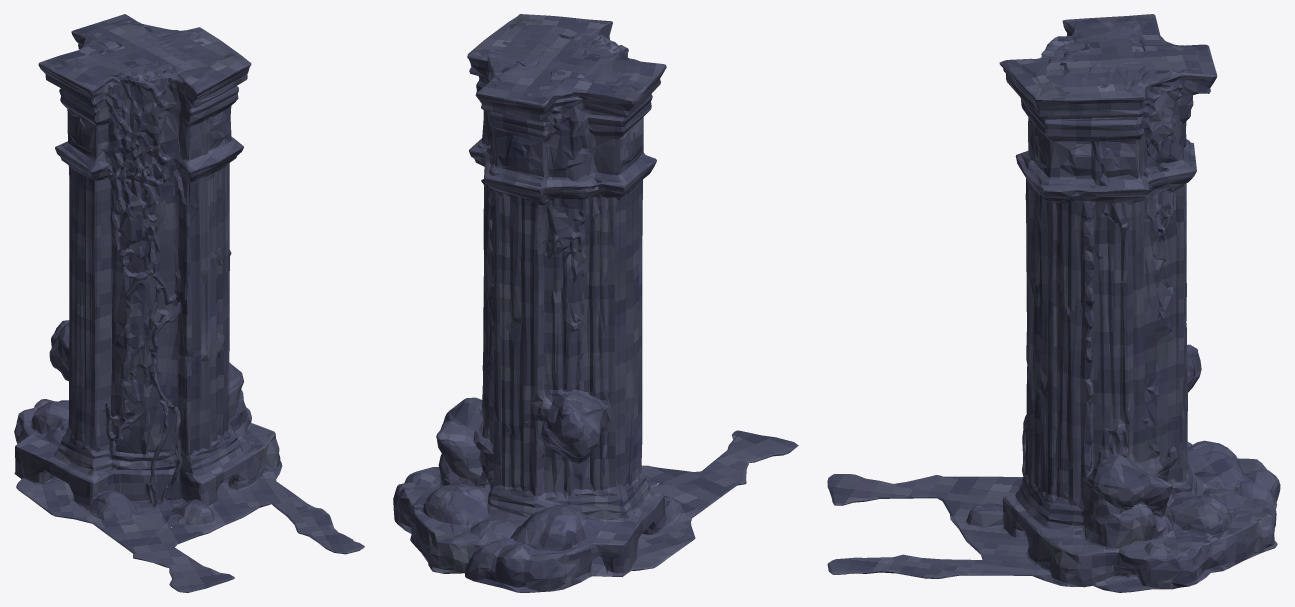
Rendered from solitude-pillar-10.collider.glb.
3 renders of one model, left to right at view 1: azimuth 30°, elevation 25°; view 2: azimuth 150°, elevation 25°; view 3: azimuth 270°, elevation 25°, orthographic. The views are drawn at different scales.
Visible parts, largest first — view 1: temp_mesh.ply; view 2: temp_mesh.ply; view 3: temp_mesh.ply.
Part boxes in pixels (x1,y1,x2,y2): temp_mesh.ply: (14, 14, 364, 592); temp_mesh.ply: (393, 14, 798, 592); temp_mesh.ply: (827, 14, 1280, 592).
Bounding box in the file's own units: 1.14 × 1.97 × 1.73.
1 material, 1 textured.
